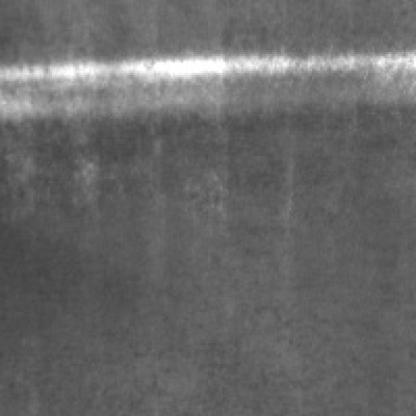scratches: (4, 44, 416, 110)
